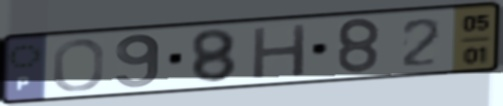2: (399, 16, 444, 69)
8: (187, 26, 240, 87), (335, 16, 382, 77)
9: (113, 32, 162, 90)
H: (249, 21, 311, 82)
O: (50, 37, 107, 94)
